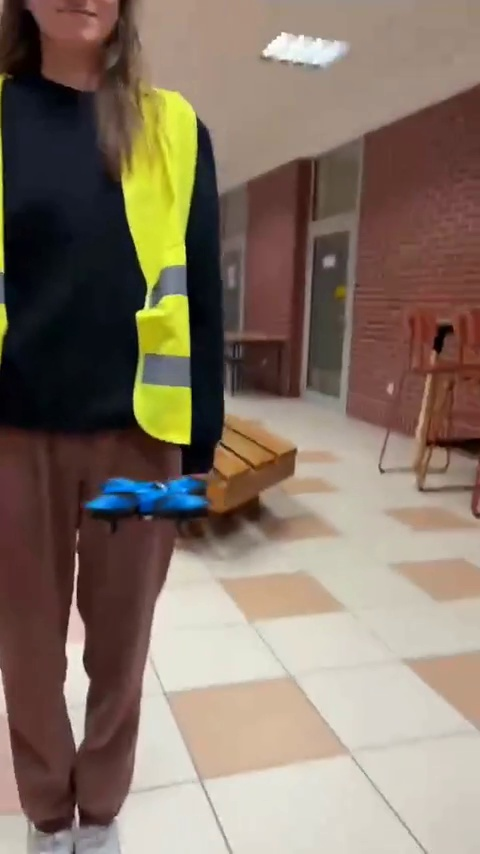drone: (87, 470, 215, 533)
vest: (0, 64, 224, 847)
